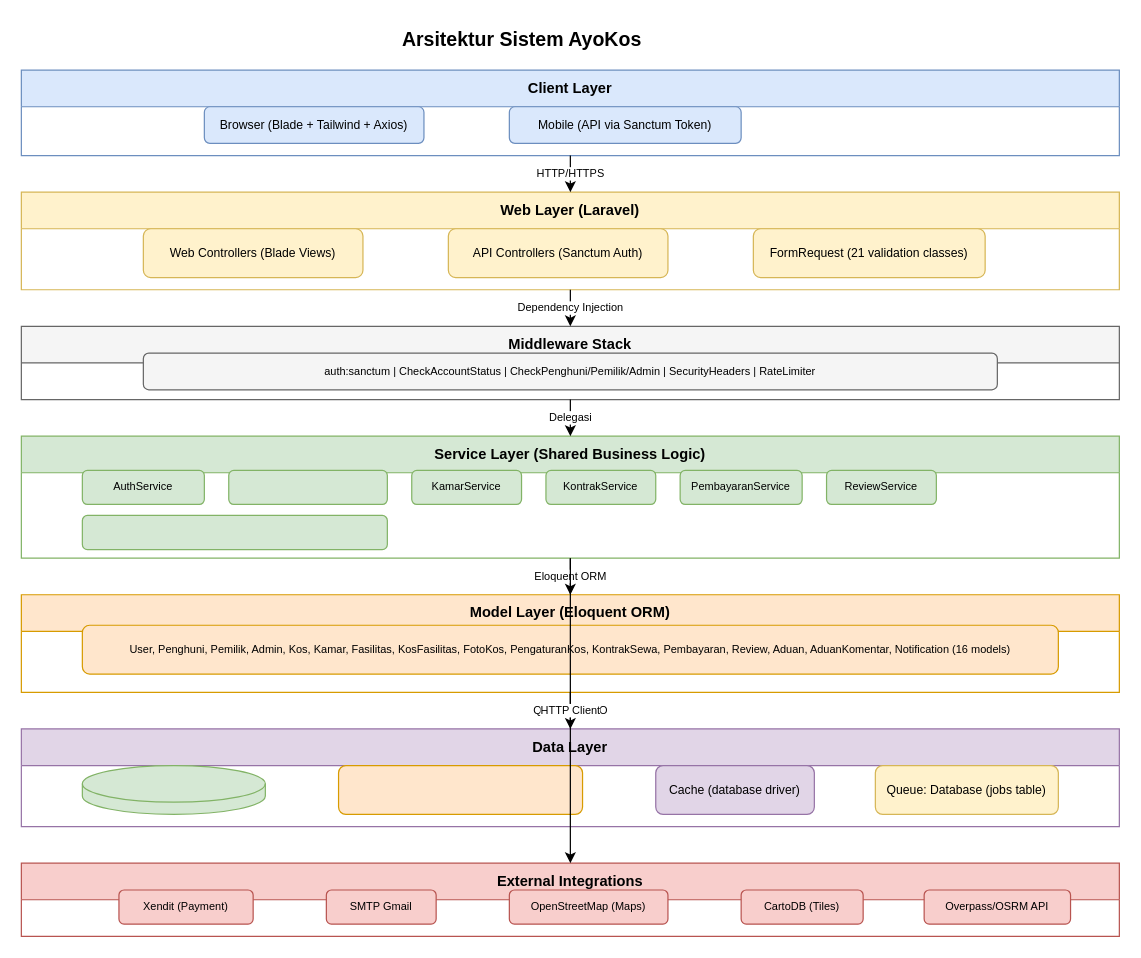
The diagram is 1141 pixels wide and 958 high, and some of its shapes have lost their labels. The centre of each missing label's shape, as x and y in pixels:
"File Storage (local: storage/app/public/)" belongs at [460,789].
"KosService + FotoKosService" belongs at [307,486].
"MySQL Database (17 tables)" belongs at [173,789].
"Profile/Analisis/Aduan/Keuangan/Notif Services (11 class)" belongs at [234,532].
